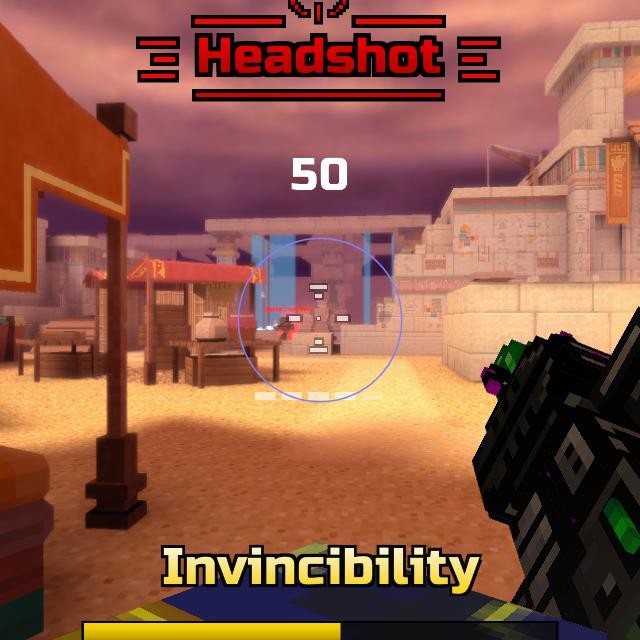Enemy: (274, 316, 295, 341)
